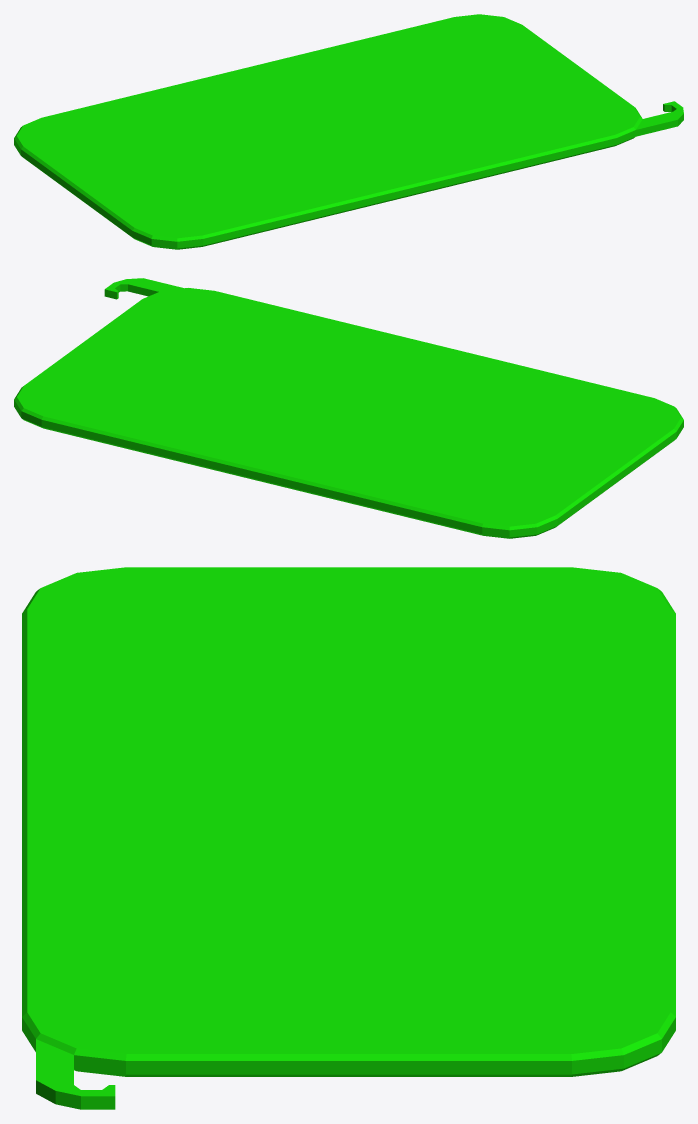
The model's file is CuttingBoard.fbx.
3 views of the same model, one above another, from view 1: azimuth 30°, elevation 25°; view 2: azimuth 150°, elevation 25°; view 3: azimuth 270°, elevation 25° (orthographic). The views are drawn at different scales.
Parts seen in each view (by area): view 1: CurringBoardGreen; view 2: CurringBoardGreen; view 3: CurringBoardGreen.
Part boxes in pixels (x1,y1,x2,y2): CurringBoardGreen: [14, 14, 683, 249]; CurringBoardGreen: [14, 278, 683, 538]; CurringBoardGreen: [22, 567, 675, 1109].
Bounding box in the file's own units: 343 × 6.94 × 180.
